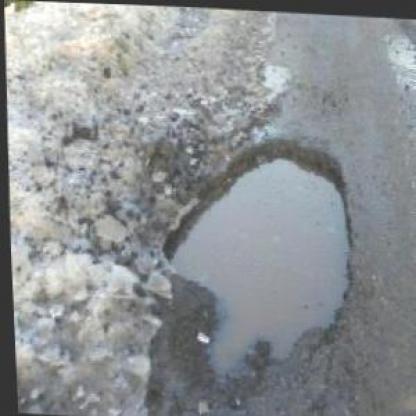pothole: (148, 128, 360, 380), (56, 121, 98, 164), (86, 206, 129, 242)
